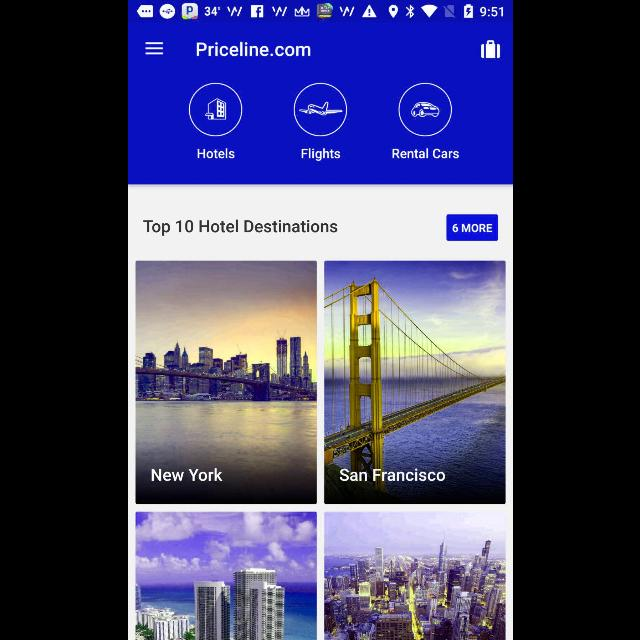icon: (480, 40, 500, 58), (145, 42, 163, 56)
image: (134, 260, 316, 504), (323, 262, 504, 504), (134, 512, 316, 640), (323, 512, 504, 640), (398, 83, 452, 137), (293, 83, 347, 137), (188, 84, 242, 136)
text: (143, 220, 337, 236), (196, 42, 310, 56), (340, 468, 444, 482), (150, 468, 222, 482), (392, 148, 458, 160), (300, 148, 340, 162), (196, 148, 234, 160)
textbutton: (445, 214, 497, 242)
uppertaskbar: (128, 1, 512, 23)
